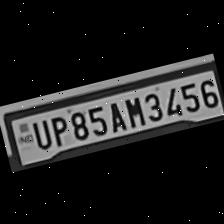3: (138, 87, 163, 122)
4: (157, 82, 182, 116)
5: (82, 100, 110, 136), (174, 78, 200, 114)
6: (195, 72, 222, 110)
8: (64, 106, 90, 142)
A: (102, 96, 127, 132)
M: (120, 92, 146, 128)
P: (44, 110, 71, 147)
U: (27, 114, 52, 150)
